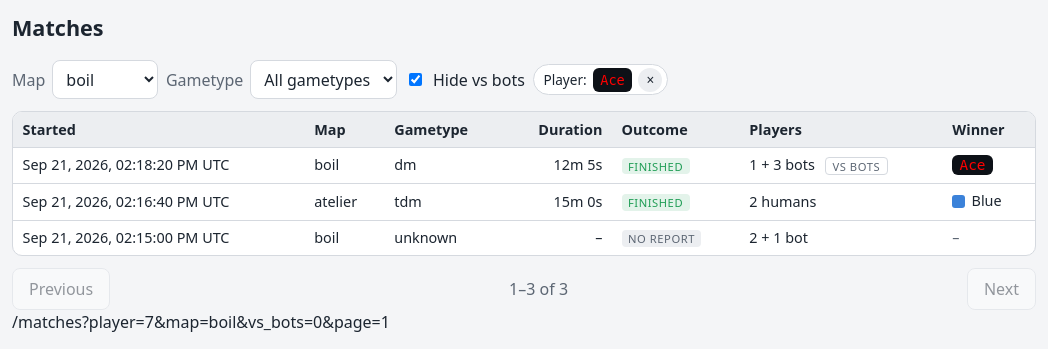
Test: the Matches section (7.2) › a reload with ?player= applies the filter and shows the player's name
expect the table named "Matches" is shown: met, box [13,112,1035,255]
expect the element with class "chip" shows "Ace": met, box [600,72,625,88]
Click the button named "Remove the player filter".
click(650, 80)  # box [638,68,662,92]
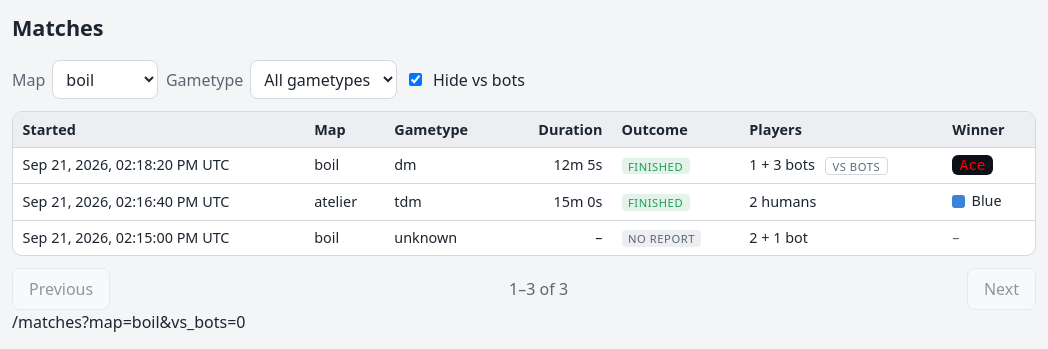
expect the text with test id "where" reads "/matches?map=boil&vs_bots=0": met, box [12,311,246,333]
expect the element with class "chip" is gone: met
